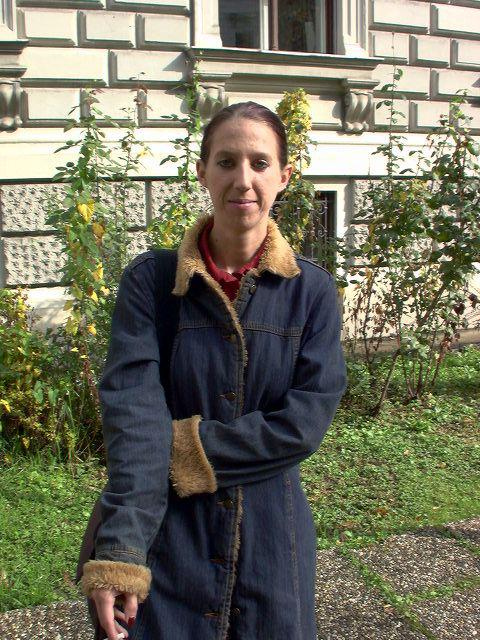Person: (76, 101, 350, 640)
